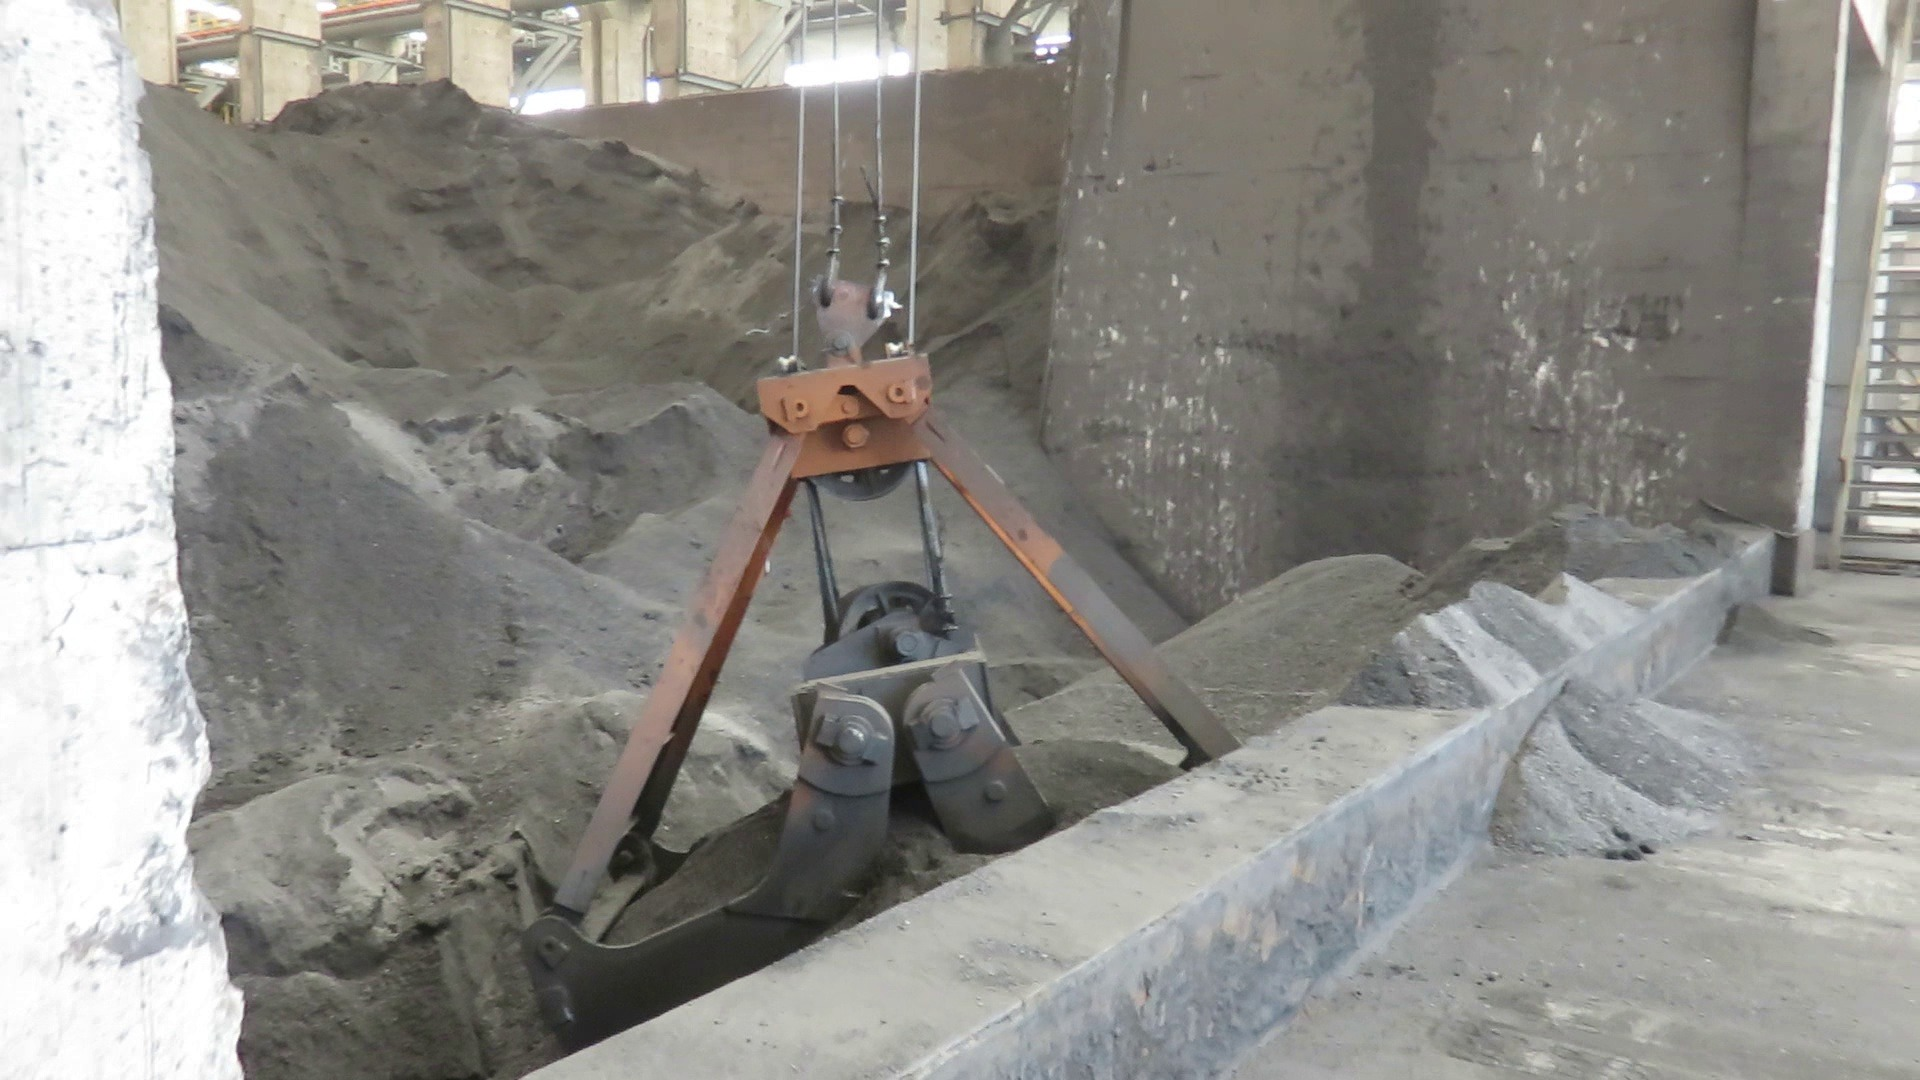grab: (438, 262, 1251, 1079)
